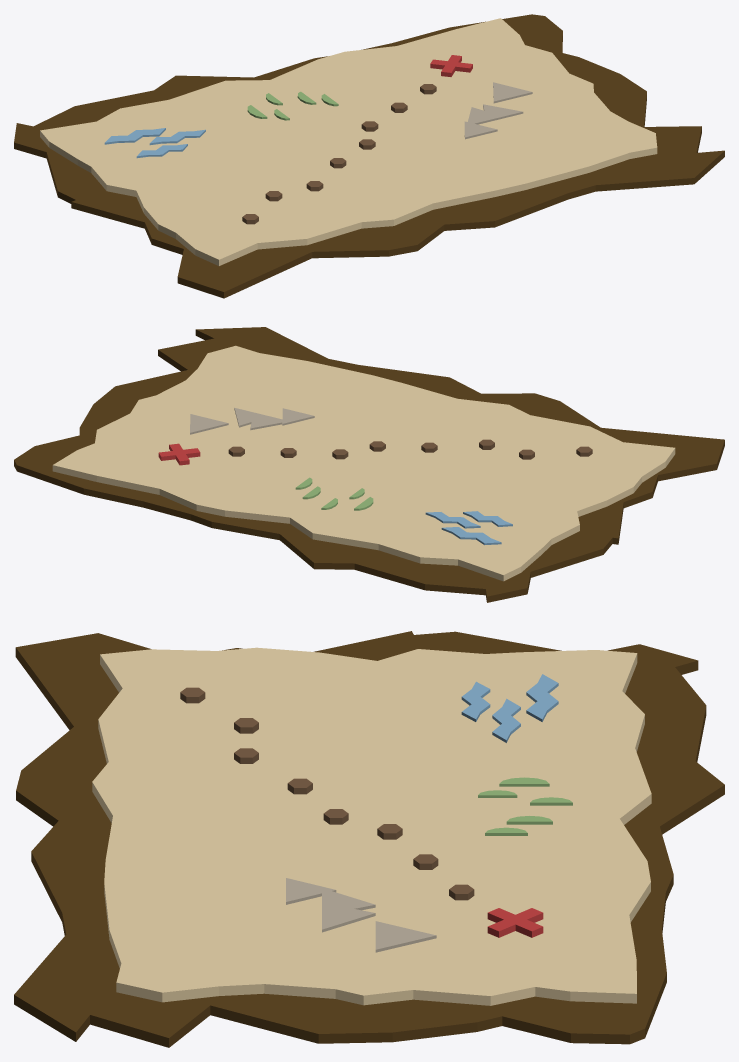
File: Map.fbx
3 views of the same model, one above another, from view 1: azimuth 30°, elevation 25°; view 2: azimuth 150°, elevation 25°; view 3: azimuth 270°, elevation 25° (orthographic). The views are drawn at different scales.
Visible parts, largest first — view 1: Map_Parchment, Map_Burn, Map_Mountain_0, Map_Mountain_1, Map_Water_0; view 2: Map_Parchment, Map_Burn, Map_Mountain_0, Map_Water_0, Map_Mountain_1; view 3: Map_Parchment, Map_Burn, Map_Mountain_0, Map_Mountain_1, Map_Water_0, Map_Water_1, Map_Water_2, Map_X_A, Map_Mountain_2.
Part boxes in pixels (<box>): Map_Parchment: <box>40,18,657,265</box>; Map_Burn: <box>14,14,724,298</box>; Map_Mountain_0: <box>468,104,523,124</box>; Map_Mountain_1: <box>493,82,532,103</box>; Map_Water_0: <box>104,128,165,144</box>; Map_Parchment: <box>52,345,675,581</box>; Map_Burn: <box>14,327,724,602</box>; Map_Mountain_0: <box>234,407,282,430</box>; Map_Water_0: <box>441,527,501,545</box>; Map_Mountain_1: <box>190,414,228,434</box>; Map_Parchment: <box>92,647,651,1005</box>; Map_Burn: <box>14,631,724,1047</box>; Map_Mountain_0: <box>322,888,375,932</box>; Map_Mountain_1: <box>375,921,436,952</box>; Map_Water_0: <box>526,674,558,721</box>; Map_Water_1: <box>492,698,520,742</box>; Map_Water_2: <box>461,681,490,721</box>; Map_X_A: <box>487,908,543,937</box>; Map_Mountain_2: <box>286,878,336,904</box>.
Bounding box in the file's own units: 537 × 17 × 397.
